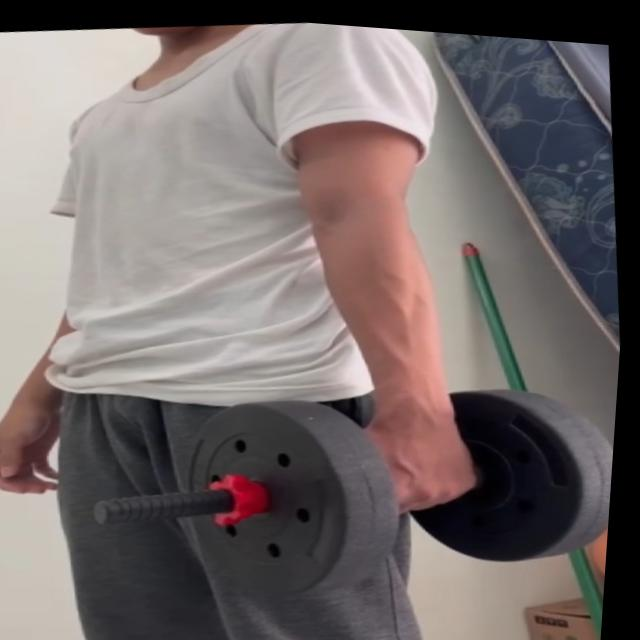hammer: (164, 352, 618, 633)
